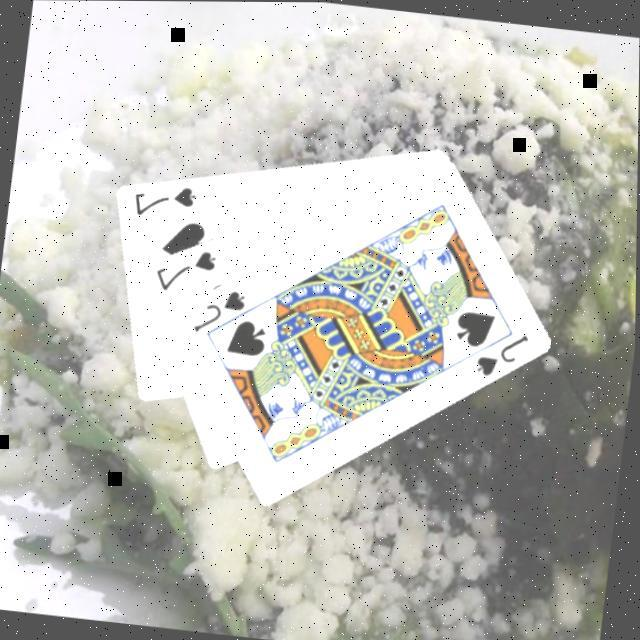7S: (150, 239, 222, 296), (128, 175, 201, 222)
JS: (472, 321, 534, 381), (190, 280, 252, 338)
